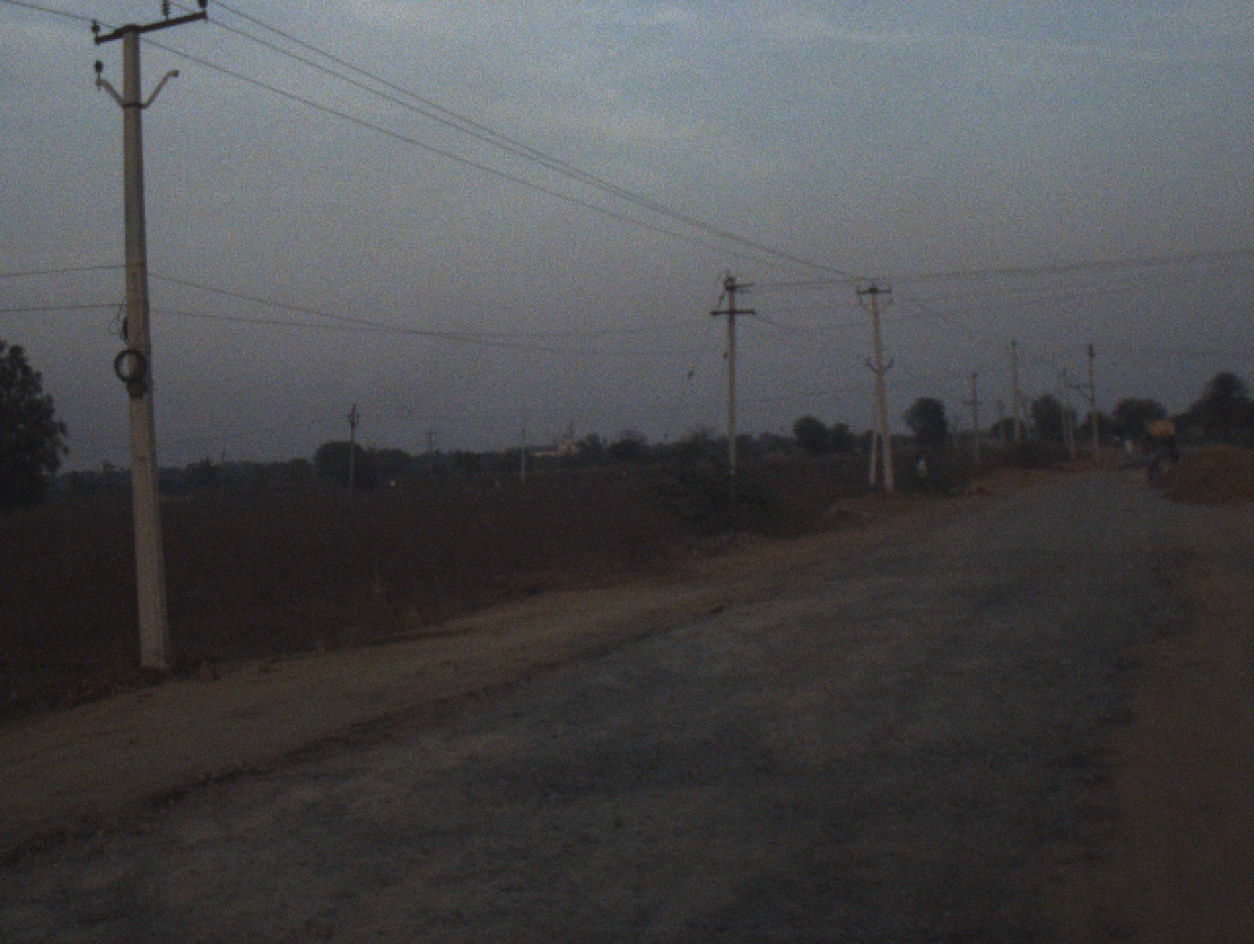person: (914, 450, 923, 476)
truck: (1137, 411, 1176, 454)
